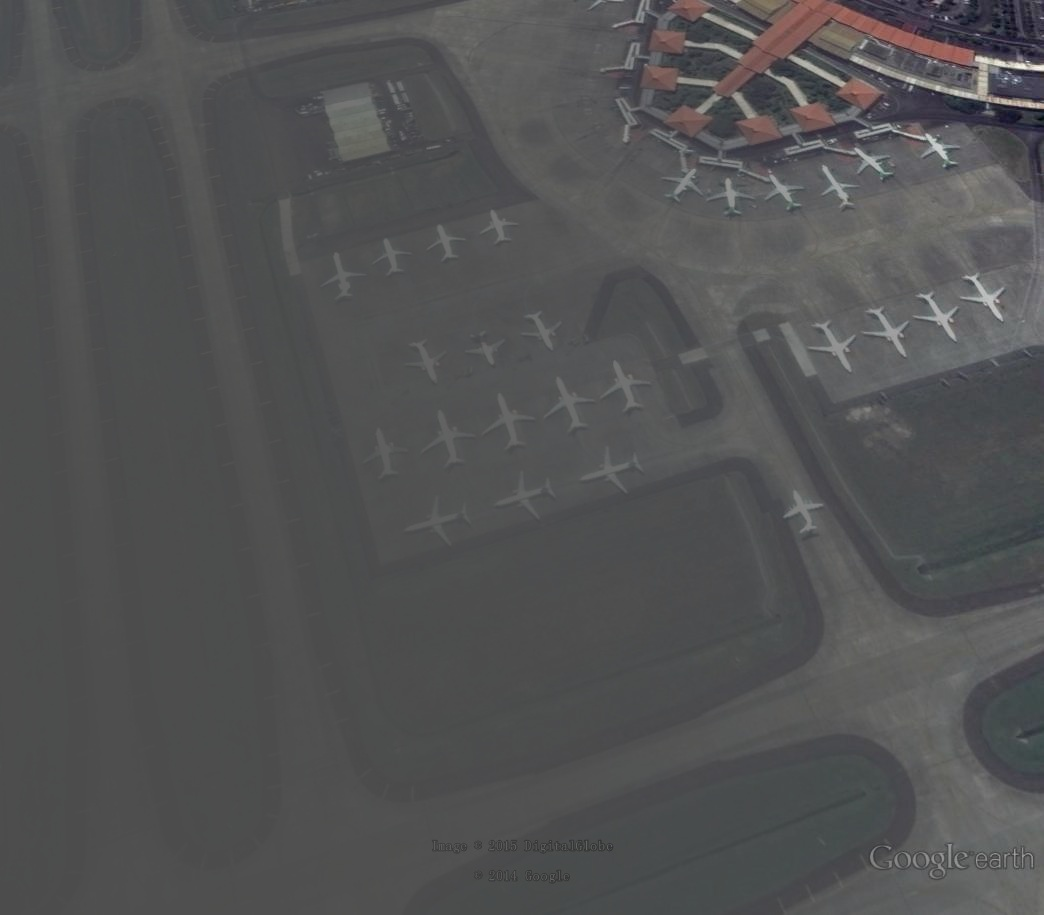aircraft: (402, 494, 474, 550), (577, 443, 647, 498), (481, 389, 541, 453), (420, 407, 479, 472), (490, 469, 560, 522), (541, 376, 598, 437), (860, 300, 915, 363), (599, 359, 655, 419), (802, 320, 862, 375), (955, 271, 1012, 328), (319, 246, 371, 306), (912, 289, 966, 346), (362, 425, 413, 484), (777, 487, 828, 535), (404, 334, 449, 388), (703, 176, 758, 220), (518, 308, 565, 355), (461, 328, 509, 373), (759, 173, 808, 217), (818, 164, 862, 211), (916, 131, 966, 172), (850, 146, 901, 186), (368, 236, 414, 278), (424, 223, 470, 265), (660, 167, 708, 207), (478, 208, 522, 245)
